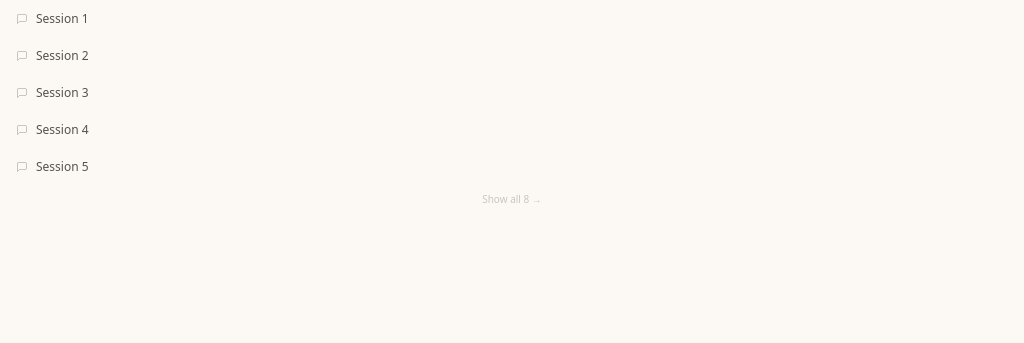
ChatSessionList › clicking Show all reveals hidden sessions
Click the button "Show all 8 →": (512, 200) [4,188,1020,211]
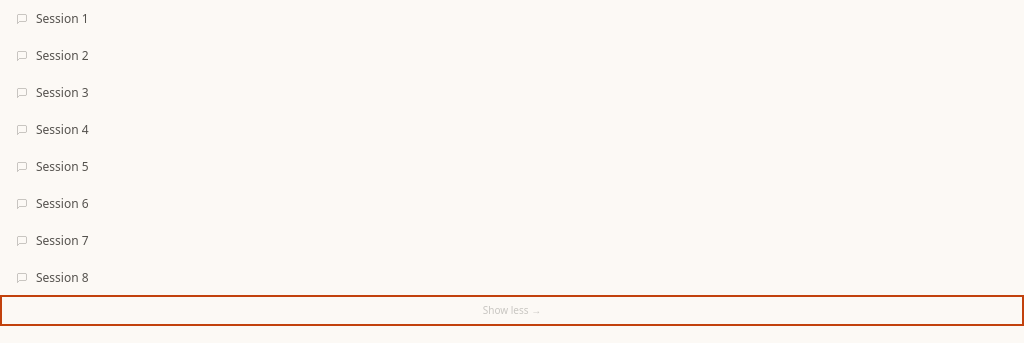
Expected: the text "Session 6" is shown, [36,194,89,212]
Expected: the text "Session 8" is shown, [36,268,89,286]
